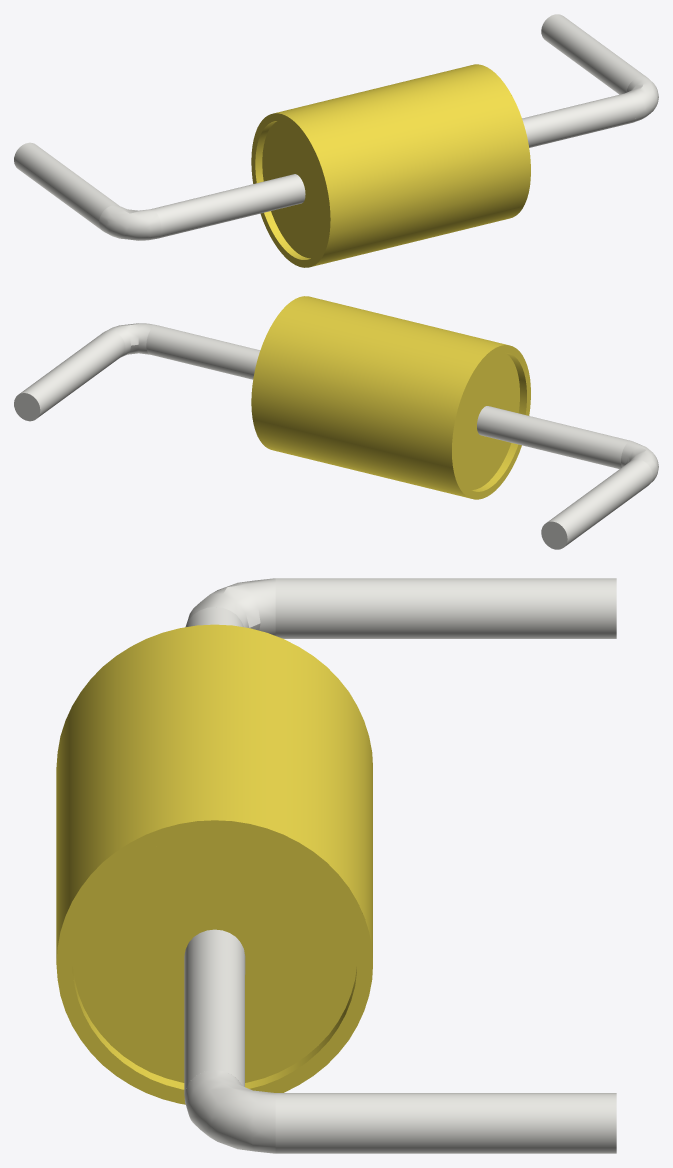
File: C_Axial_L3.8mm_D2.6mm_P10.00mm_Horizontal.glb
3 renders of one model, top to bottom at view 1: azimuth 30°, elevation 25°; view 2: azimuth 150°, elevation 25°; view 3: azimuth 270°, elevation 25°, orthographic. The views are drawn at different scales.
Visible parts, largest first — view 1: Shape_IndexedFaceSet, Shape_IndexedFaceSet.010, Shape_IndexedFaceSet.005, Shape_IndexedFaceSet.008, Shape_IndexedFaceSet.012, Shape_IndexedFaceSet.009, Shape_IndexedFaceSet.001, Shape_IndexedFaceSet.011, Shape_IndexedFaceSet.003; view 2: Shape_IndexedFaceSet, Shape_IndexedFaceSet.010, Shape_IndexedFaceSet.005, Shape_IndexedFaceSet.008, Shape_IndexedFaceSet.012, Shape_IndexedFaceSet.001, Shape_IndexedFaceSet.011, Shape_IndexedFaceSet.003, Shape_IndexedFaceSet.009, Shape_IndexedFaceSet.007, Shape_IndexedFaceSet.013; view 3: Shape_IndexedFaceSet, Shape_IndexedFaceSet.006, Shape_IndexedFaceSet.012, Shape_IndexedFaceSet.008, Shape_IndexedFaceSet.002, Shape_IndexedFaceSet.010, Shape_IndexedFaceSet.011, Shape_IndexedFaceSet.009, Shape_IndexedFaceSet.004.
Boxes of the visible parts, x1,y1,x2,y2 form: Shape_IndexedFaceSet: [275, 64, 530, 266]; Shape_IndexedFaceSet.010: [151, 93, 635, 238]; Shape_IndexedFaceSet.005: [262, 121, 326, 258]; Shape_IndexedFaceSet.008: [14, 142, 119, 230]; Shape_IndexedFaceSet.012: [541, 14, 647, 94]; Shape_IndexedFaceSet.009: [99, 205, 161, 240]; Shape_IndexedFaceSet.001: [251, 113, 330, 267]; Shape_IndexedFaceSet.011: [625, 76, 658, 122]; Shape_IndexedFaceSet.003: [255, 121, 310, 259]; Shape_IndexedFaceSet: [251, 296, 506, 498]; Shape_IndexedFaceSet.010: [146, 325, 630, 468]; Shape_IndexedFaceSet.005: [456, 352, 519, 490]; Shape_IndexedFaceSet.008: [547, 459, 652, 546]; Shape_IndexedFaceSet.012: [19, 330, 125, 417]; Shape_IndexedFaceSet.001: [452, 345, 530, 499]; Shape_IndexedFaceSet.011: [105, 323, 156, 357]; Shape_IndexedFaceSet.003: [472, 352, 526, 491]; Shape_IndexedFaceSet.009: [621, 441, 658, 482]; Shape_IndexedFaceSet.007: [541, 521, 567, 549]; Shape_IndexedFaceSet.013: [14, 393, 40, 421]; Shape_IndexedFaceSet: [56, 624, 372, 962]; Shape_IndexedFaceSet.006: [72, 834, 356, 1082]; Shape_IndexedFaceSet.012: [275, 1093, 616, 1153]; Shape_IndexedFaceSet.008: [275, 578, 616, 638]; Shape_IndexedFaceSet.002: [56, 820, 372, 1104]; Shape_IndexedFaceSet.010: [184, 607, 245, 1095]; Shape_IndexedFaceSet.011: [184, 1070, 275, 1153]; Shape_IndexedFaceSet.009: [185, 578, 275, 635]; Shape_IndexedFaceSet.004: [72, 967, 356, 1089].
Size of the model in its own units: 4.13 by 1.02 by 1.81.
